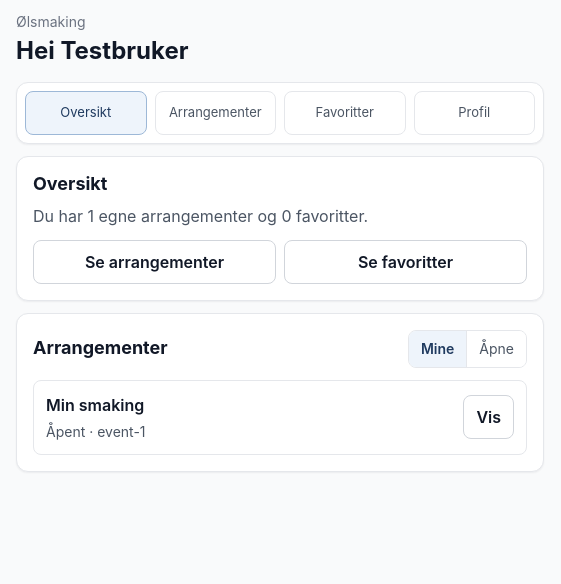
Test case: App core flows › submits nickname update via PATCH and shows confirmation
Click the button "Profil": [474, 113] box [414, 91, 535, 135]
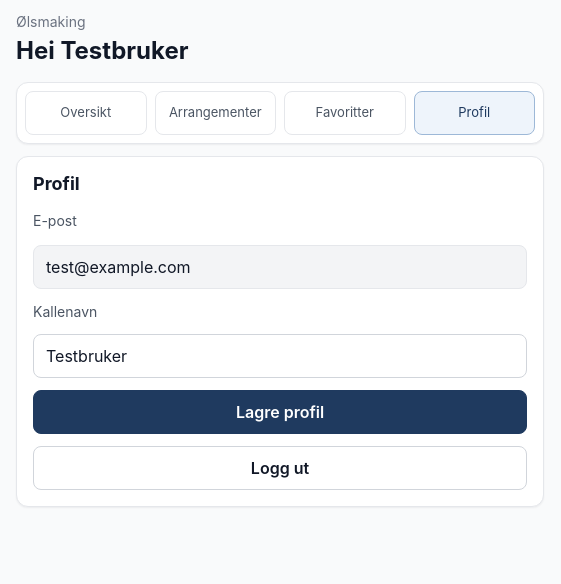
Replace the text in the field labelled "Kallenavn" with "Nytt navn": [280, 356] box [33, 334, 527, 378]
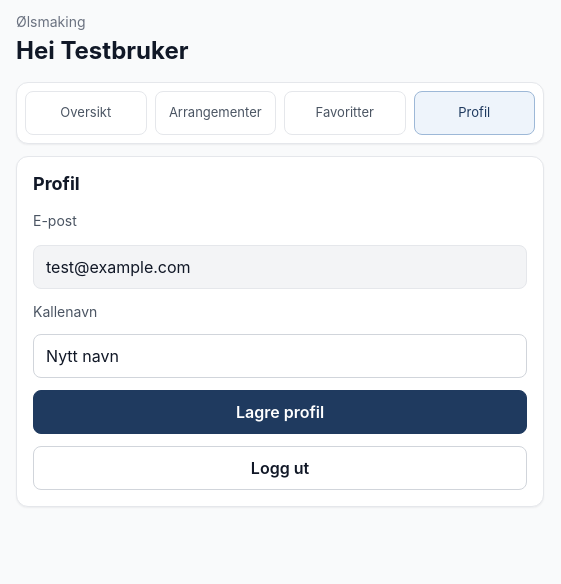
Click the button "Lagre profil": [280, 412] box [33, 390, 527, 434]
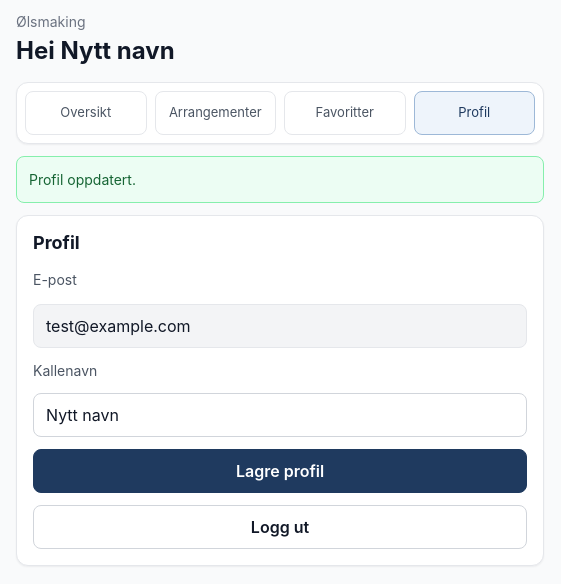
Expected: the text "Profil oppdatert." is shown, [16, 156, 544, 203]
